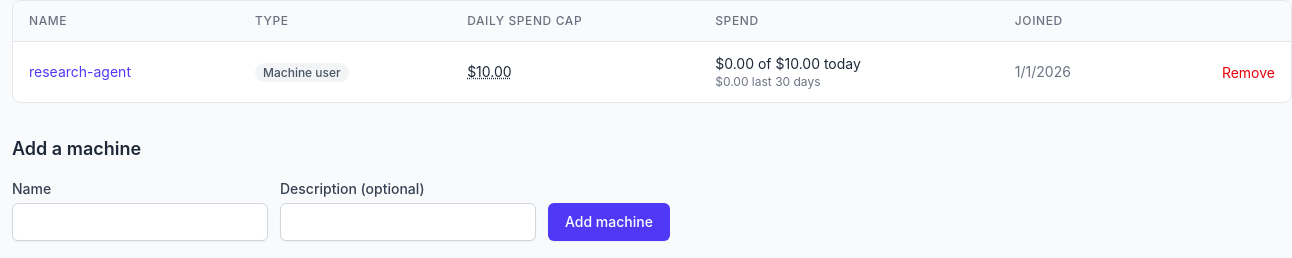
Test: MachinesManager › saves a machine's new daily cap in cents
Click the button named "Edit daily spend cap for research-agent" at x=489, y=72, box top-left (467, 62), bottom-right (512, 82)
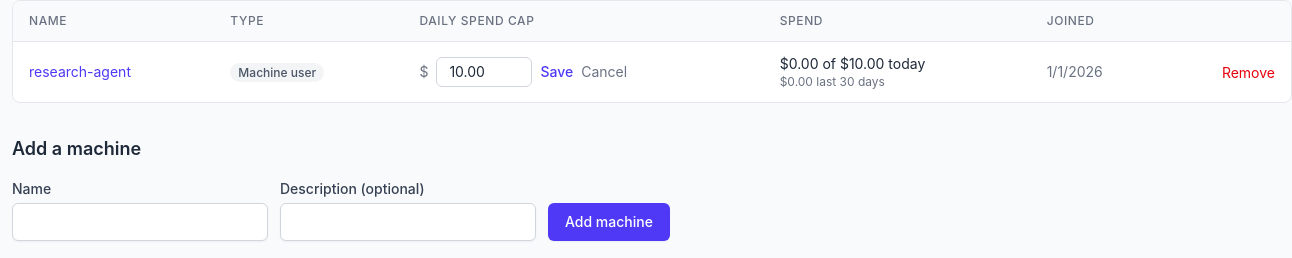
Replace the text in the number field named "Daily spend cap for research-agent (USD)" with "25.50" at x=484, y=72, box top-left (436, 57), bottom-right (532, 87)
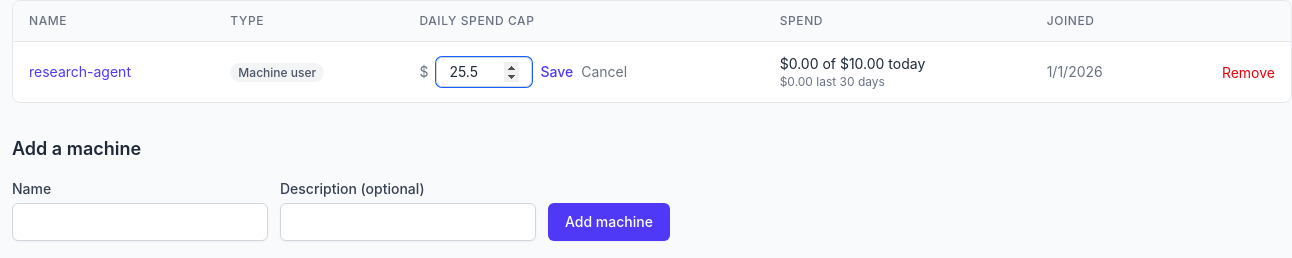
Click the button "Save" at x=557, y=72, box top-left (540, 62), bottom-right (573, 82)
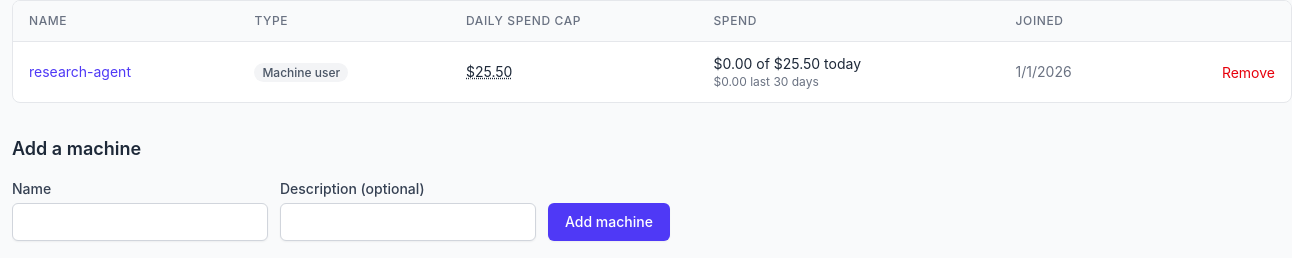
Now the button "$25.50" is shown, box top-left (466, 62), bottom-right (512, 82)
